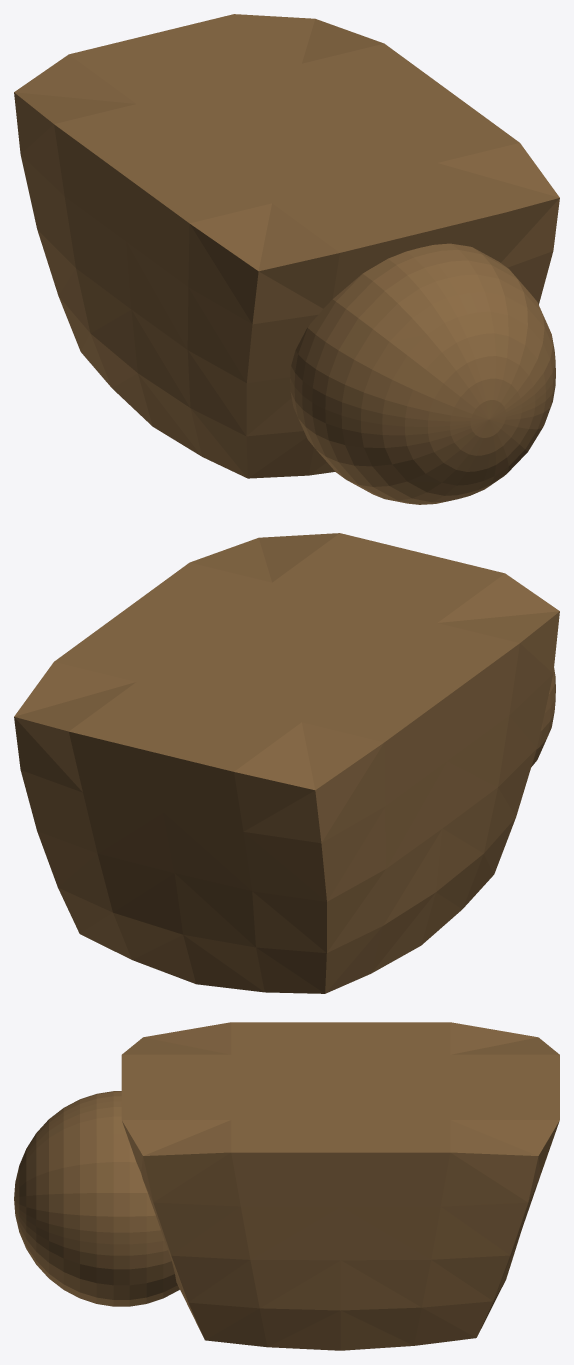
The model's file is LeftFingerJoint22y_joint_visu.dae.
3 renders of one model, top to bottom at view 1: azimuth 30°, elevation 25°; view 2: azimuth 150°, elevation 25°; view 3: azimuth 270°, elevation 25°, orthographic. The views are drawn at different scales.
Parts seen in each view (by area): view 1: node; view 2: node; view 3: node.
Part boxes in pixels (left/top/right/bottom): node: left=14, top=14, right=559, bottom=504; node: left=14, top=533, right=559, bottom=993; node: left=14, top=1022, right=559, bottom=1350.
Bounding box in the file's own units: 0.0109 × 0.00867 × 0.0192.
